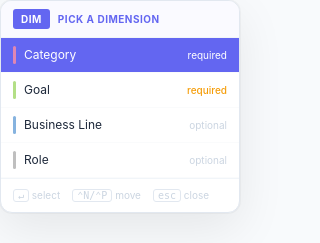
DimensionPopover › shows static dimension values after selecting a dimension
The width and height of the screenshot is (320, 243).
What coordinates should you click on to do the following:
click the element with test id "dim-item"
I would click on:
 (120, 56)
Its box is [1,38,239,73].
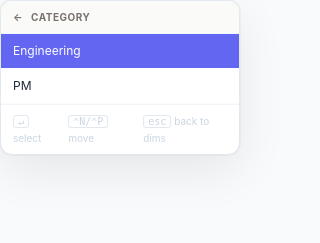
Result: the text "Engineering" is shown at [13,42,81,60]
Result: the text "PM" is shown at [13,77,32,95]
